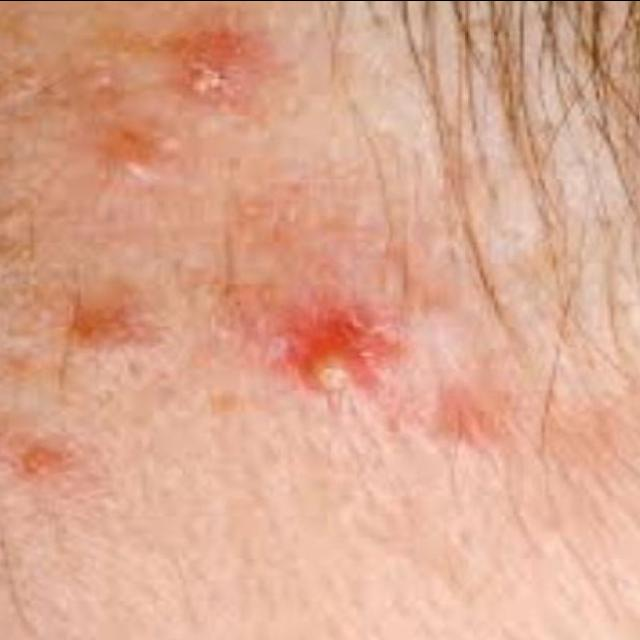pustule: (244, 309, 393, 401)
